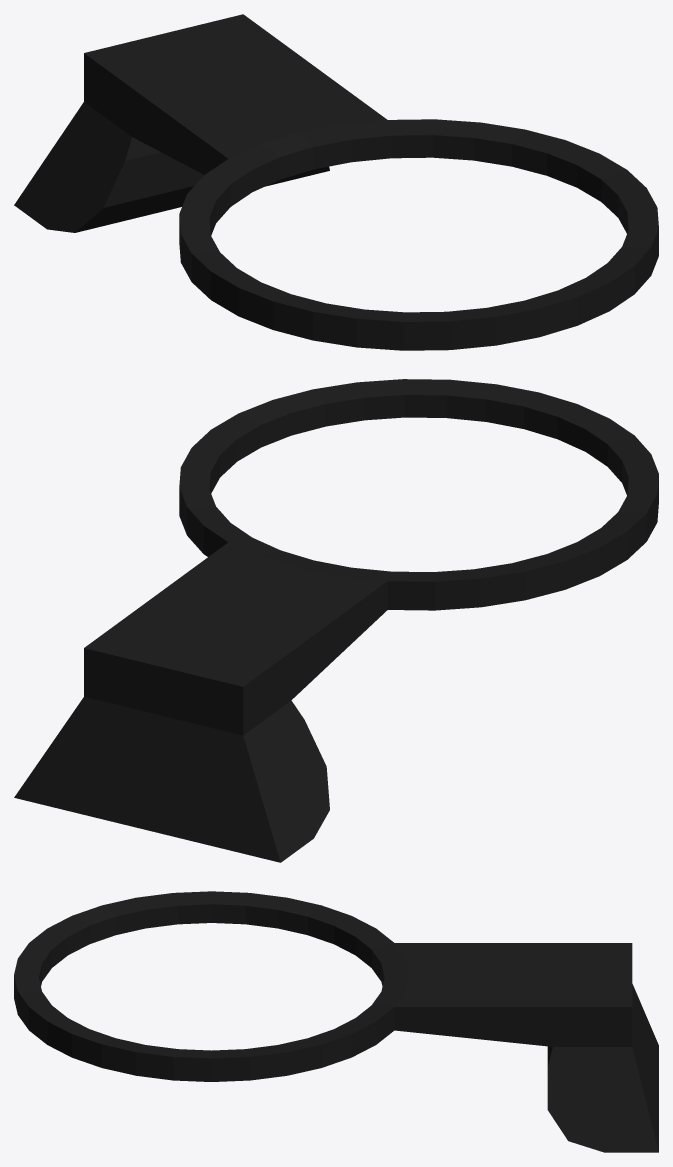
Rendered from ball stand.fbx.
3 views of the same model, one above another, from view 1: azimuth 30°, elevation 25°; view 2: azimuth 150°, elevation 25°; view 3: azimuth 270°, elevation 25° (orthographic). The views are drawn at different scales.
Visible parts, largest first — view 1: ball stand; view 2: ball stand; view 3: ball stand.
Boxes of the visible parts, x1,y1,x2,y2 form: ball stand: (14,14,658,350); ball stand: (14,379,658,862); ball stand: (14,891,658,1152).
Bounding box in the file's own units: 200 × 69.29 × 326.
Materials: 1 (1 with a texture image).
